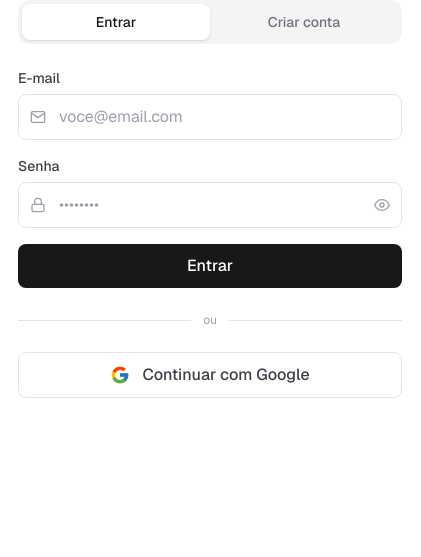
Scenario: AuthForm — modo Criar conta › should show error when passwords do not match
Click the tab "Criar conta" at [304, 22], box top-left (210, 4), bottom-right (398, 40)
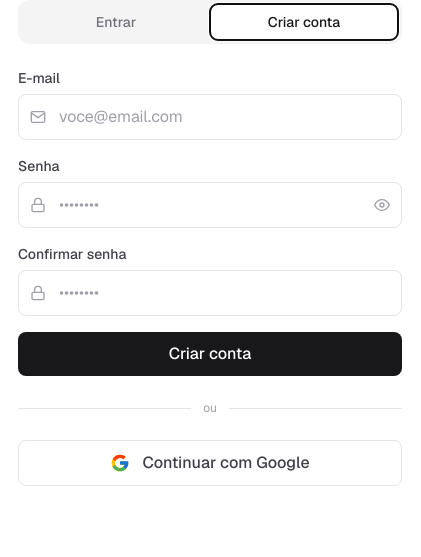
Type "novo@test.com" into the field labelled "E-mail" at [210, 117], box top-left (18, 94), bottom-right (402, 140)
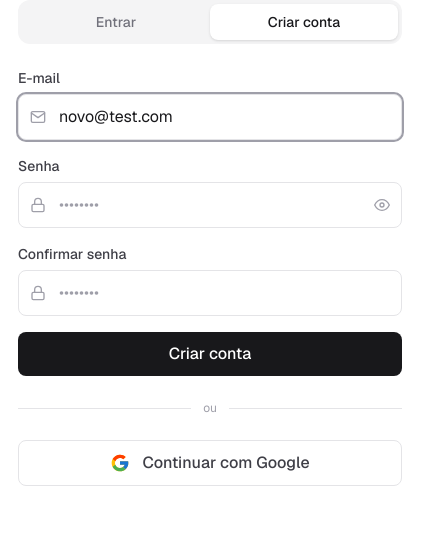
Type "senha123" into the password field labelled "Senha" at [210, 205], box top-left (18, 182), bottom-right (402, 228)
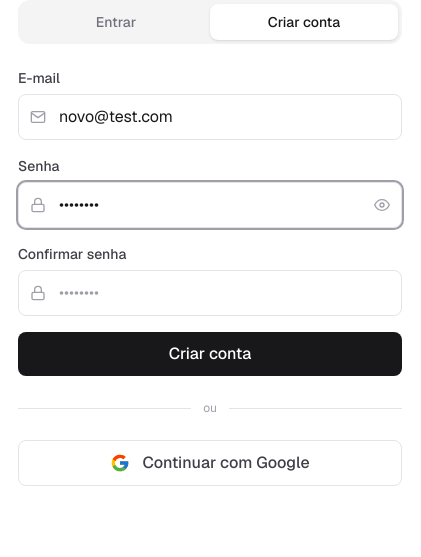
Type "diferente" into the password field labelled "Confirmar senha" at [210, 293], box top-left (18, 270), bottom-right (402, 316)
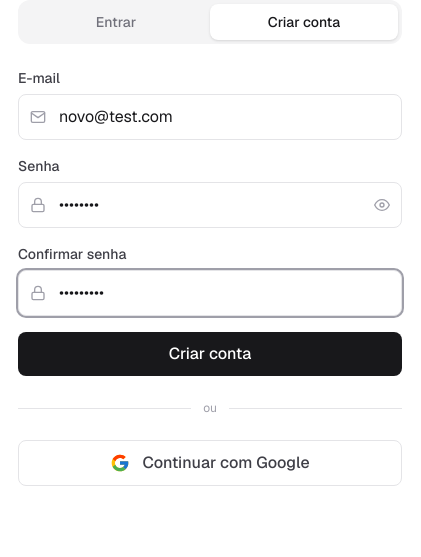
Click the button "Criar conta" at [210, 354], box top-left (18, 332), bottom-right (402, 376)
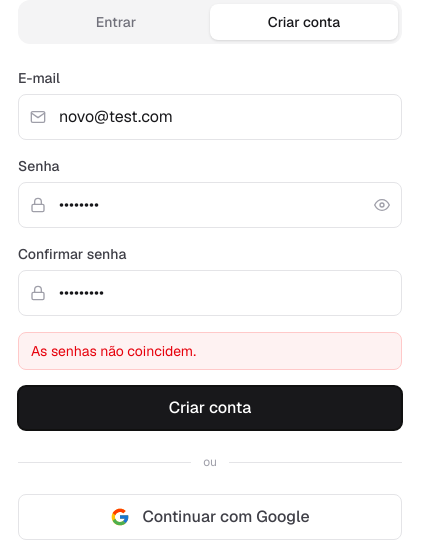
expect the text "As senhas não coincidem." is shown: met, box top-left (18, 332), bottom-right (402, 370)
